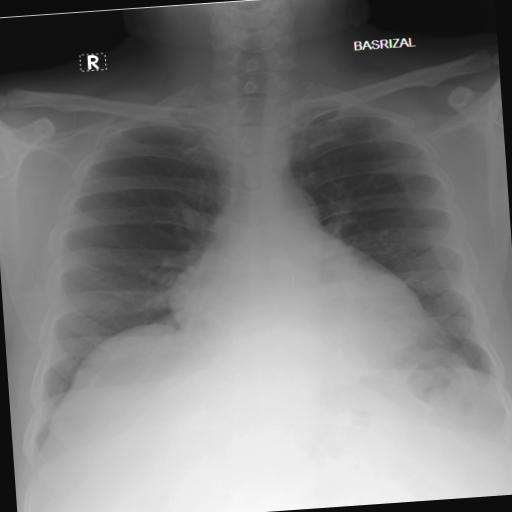kardiomegali: (9, 54, 506, 428)
